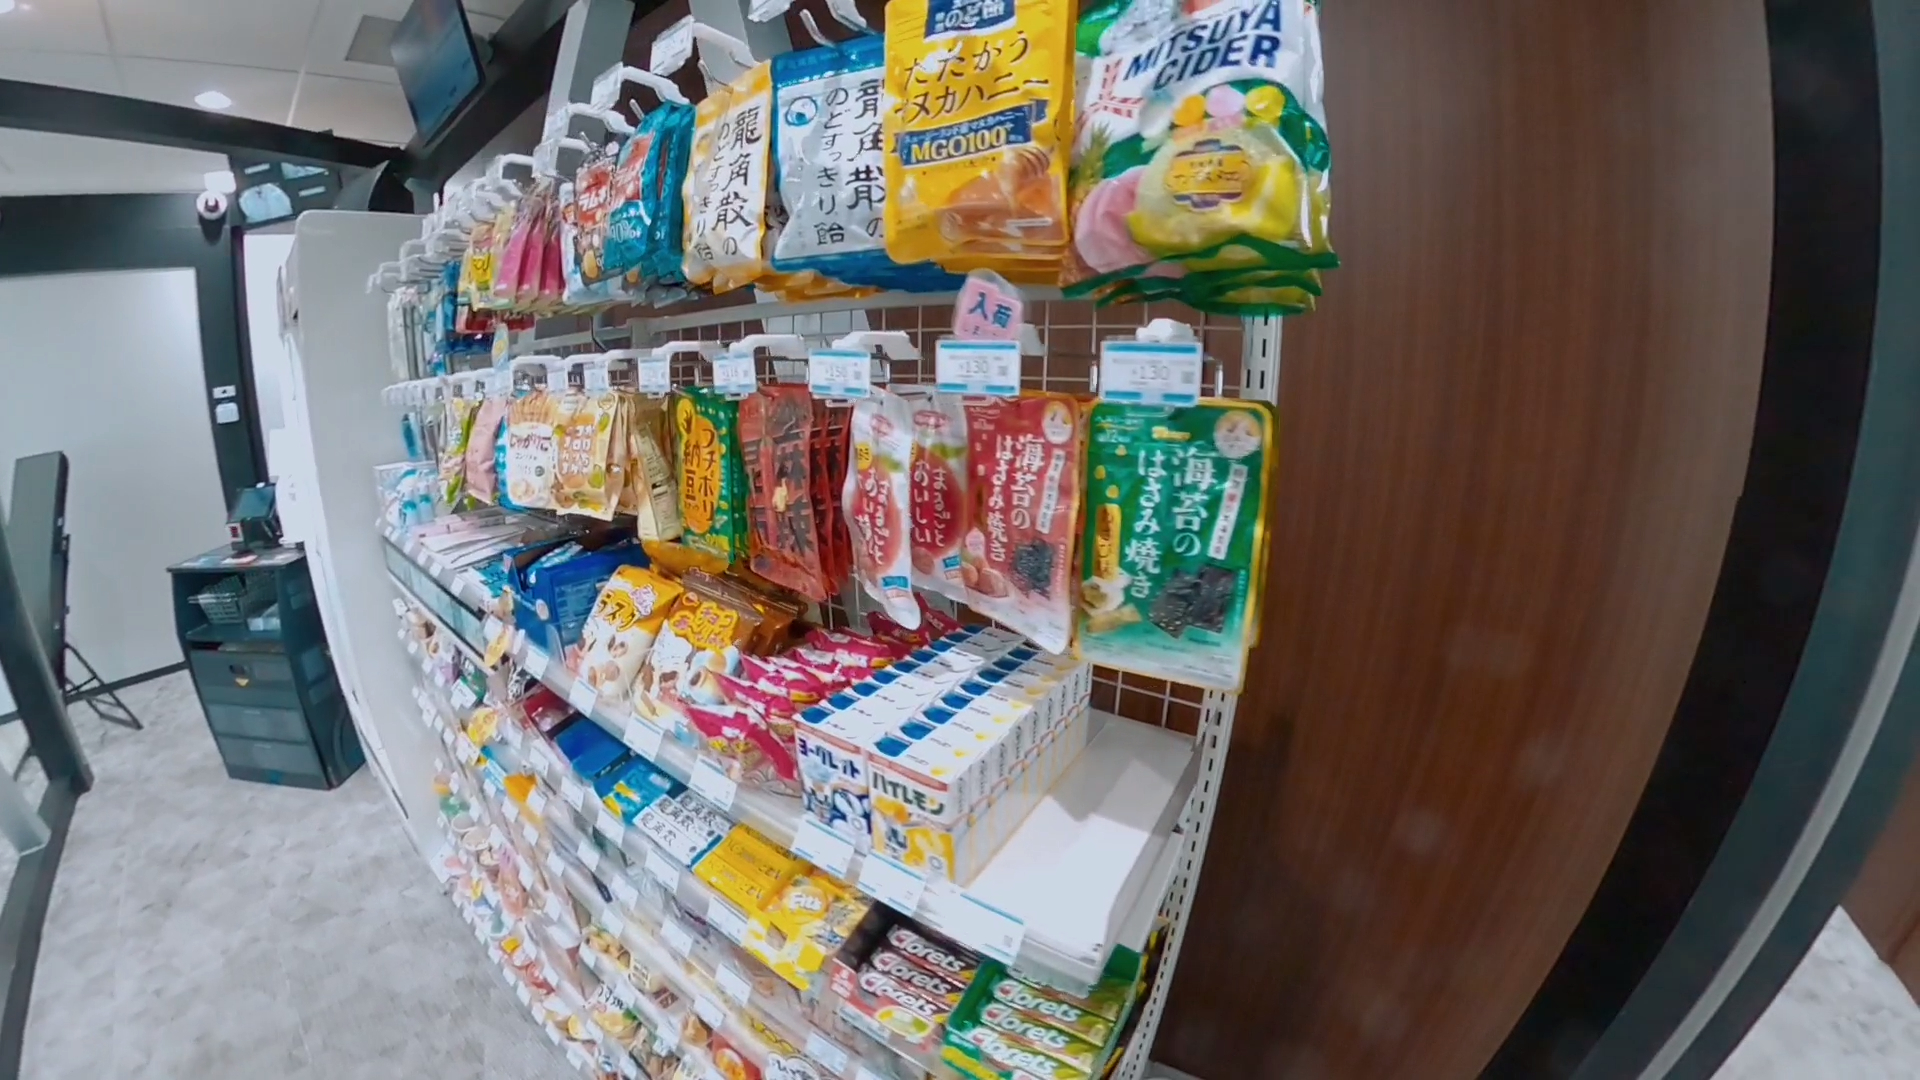NorinoHasamiyaki: (1074, 396, 1263, 690)
